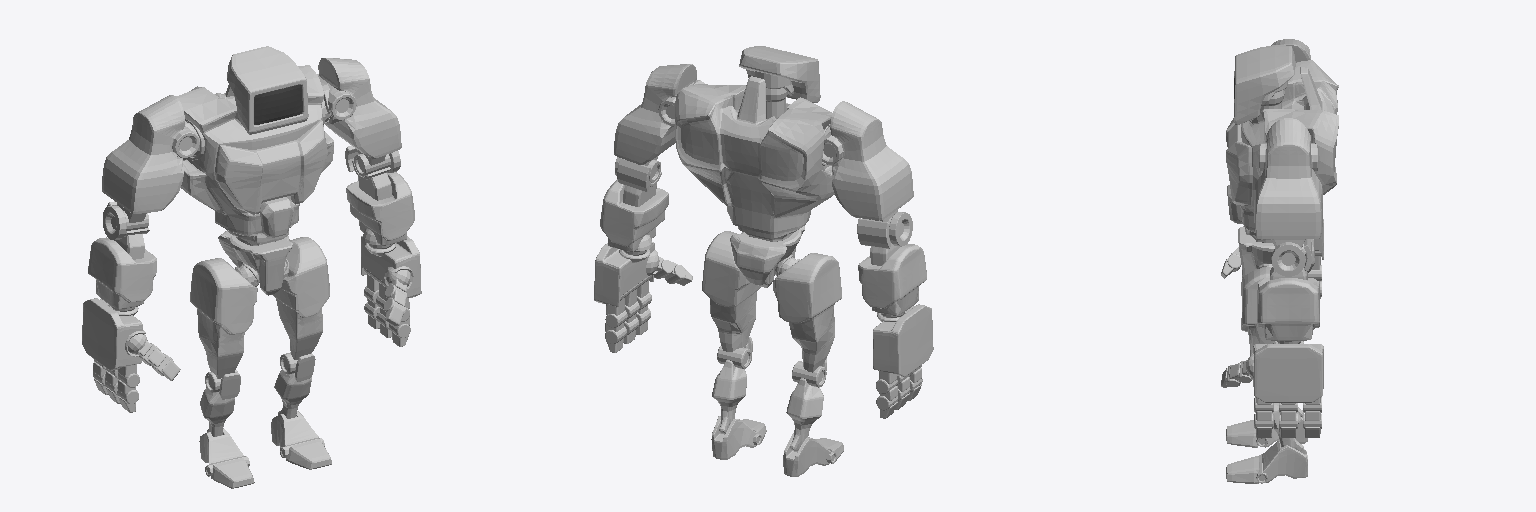
File: Bot.obj
3 views of the same model, side by side, from view 1: azimuth 30°, elevation 25°; view 2: azimuth 150°, elevation 25°; view 3: azimuth 270°, elevation 25° (orthographic).
Parts seen in each view (by area): view 1: rig_test.001, rig_test.002, rig_test.003, rig_test.008; view 2: rig_test.001, rig_test.002, rig_test.008, rig_test.003; view 3: rig_test.002, rig_test.001, rig_test.003, rig_test.008.
Part boxes in pixels (x1,y1,x2,y2): rig_test.001: (176,65,333,488); rig_test.002: (82,58,421,370); rig_test.003: (227,46,308,134); rig_test.008: (93,270,411,412); rig_test.001: (675,76,843,476); rig_test.002: (594,64,933,376); rig_test.008: (605,255,922,418); rig_test.003: (739,46,820,118); rig_test.002: (1251,39,1323,402); rig_test.001: (1226,60,1338,483); rig_test.003: (1234,45,1295,125); rig_test.008: (1221,247,1321,437).
Size of the model in its own units: 137 by 171 by 45.5.